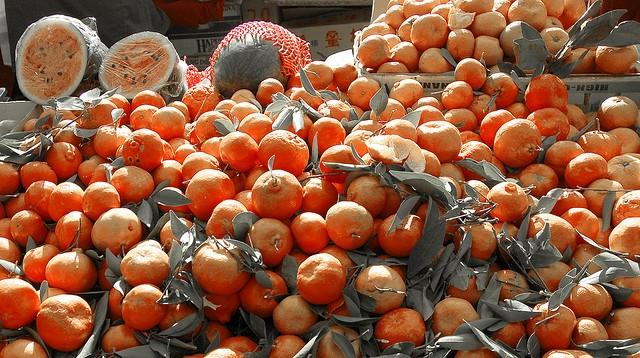watermelon: (15, 18, 110, 106), (98, 31, 189, 106), (214, 34, 290, 100)
